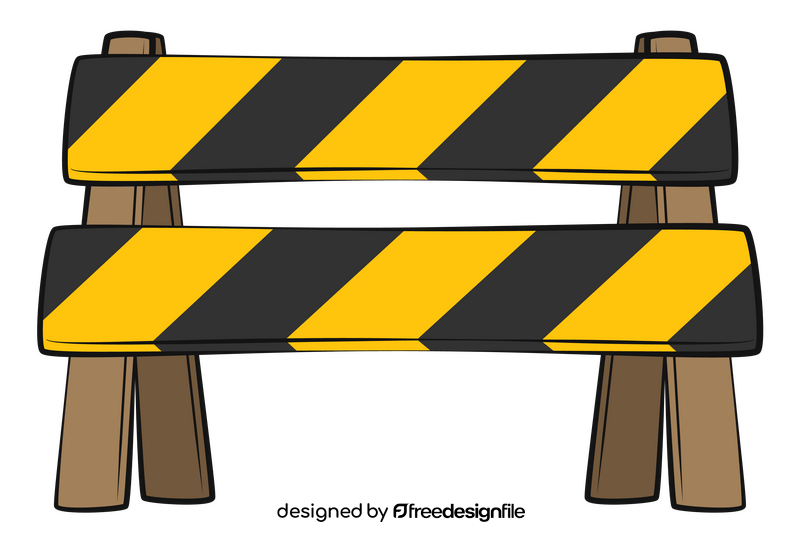Barrier: (26, 22, 784, 521)
